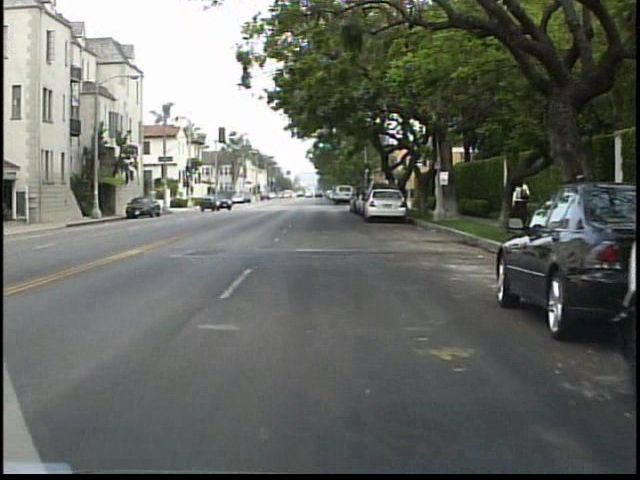person: (507, 171, 534, 235)
